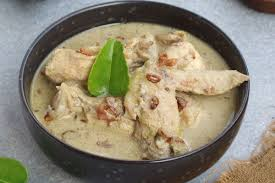Opor ayam: (30, 25, 244, 161)
